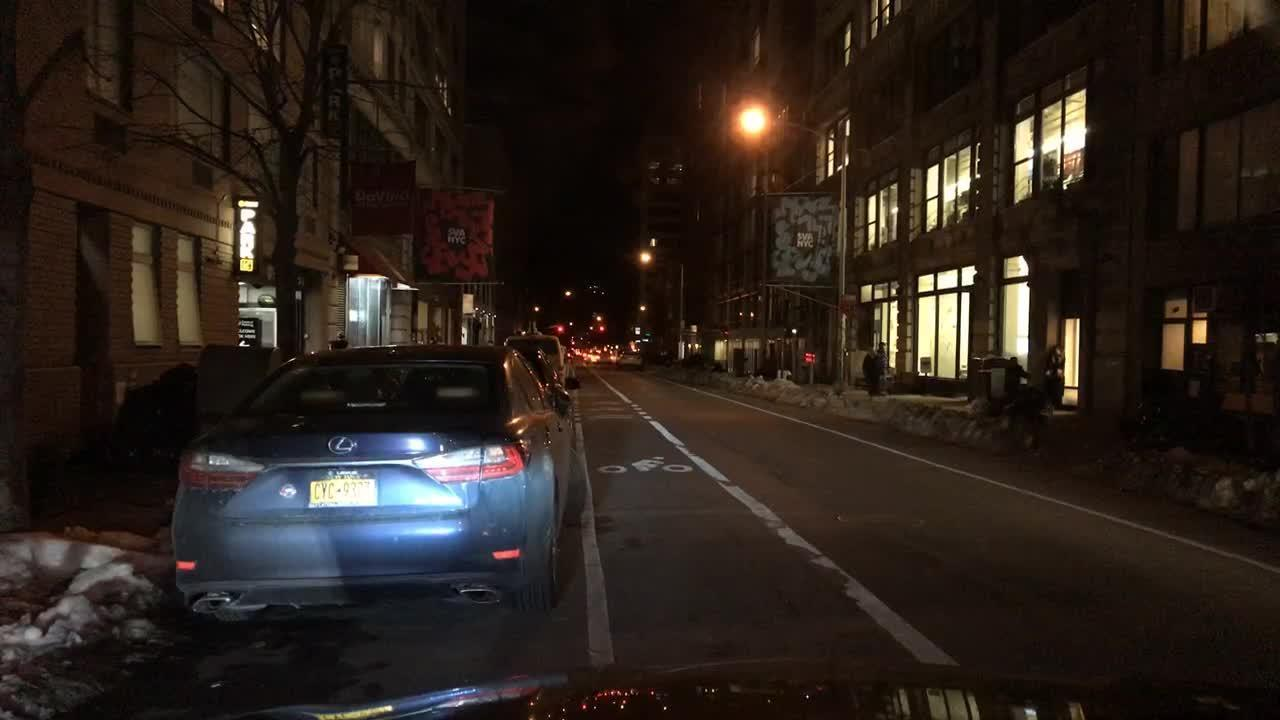lexus: (317, 431, 370, 459)
